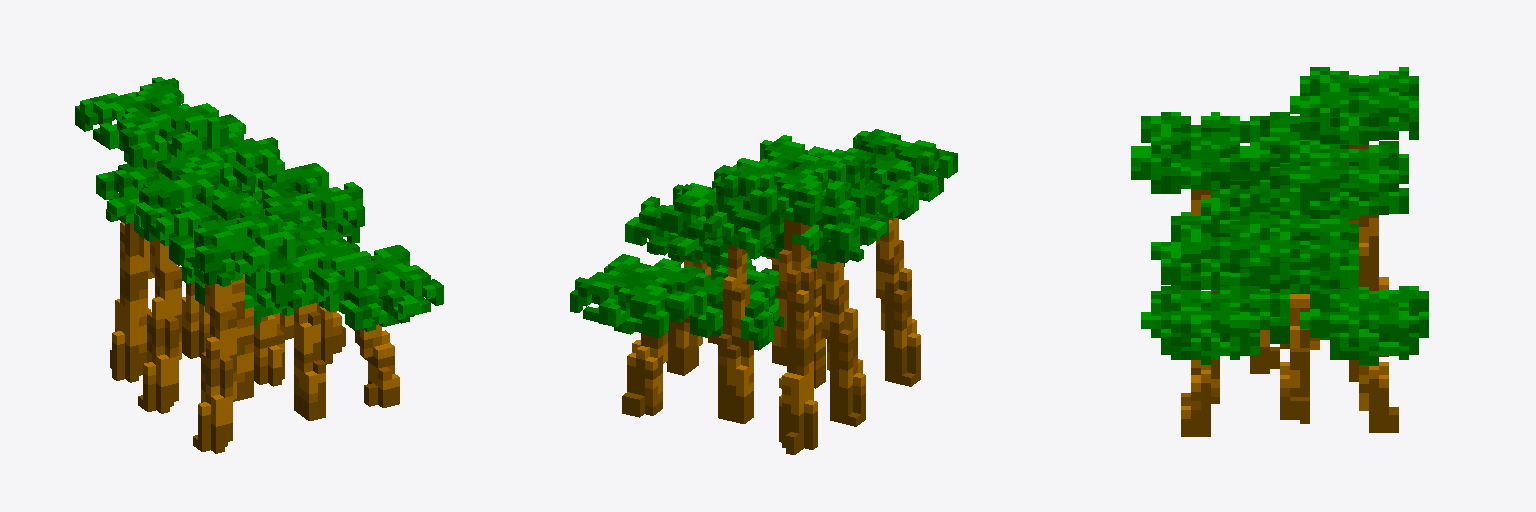
3 views of the same model, side by side, from view 1: azimuth 30°, elevation 25°; view 2: azimuth 150°, elevation 25°; view 3: azimuth 270°, elevation 25° (orthographic).
Visible parts, largest first — view 1: object 1; view 2: object 1; view 3: object 1.
Part boxes in pixels (left/top/right/bottom): object 1: left=75, top=77, right=443, bottom=453; object 1: left=570, top=129, right=957, bottom=454; object 1: left=1131, top=67, right=1428, bottom=436.
Bounding box in the file's own units: 12 × 12 × 12.
1 materials, 1 textured.